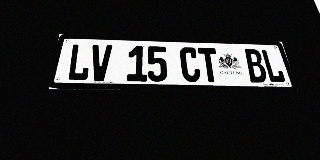1: (127, 45, 147, 81)
5: (147, 46, 168, 82)
B: (243, 49, 269, 83)
C: (179, 47, 201, 82)
L: (66, 44, 92, 81), (260, 49, 286, 83)
T: (198, 48, 221, 82)
V: (89, 44, 112, 81)
